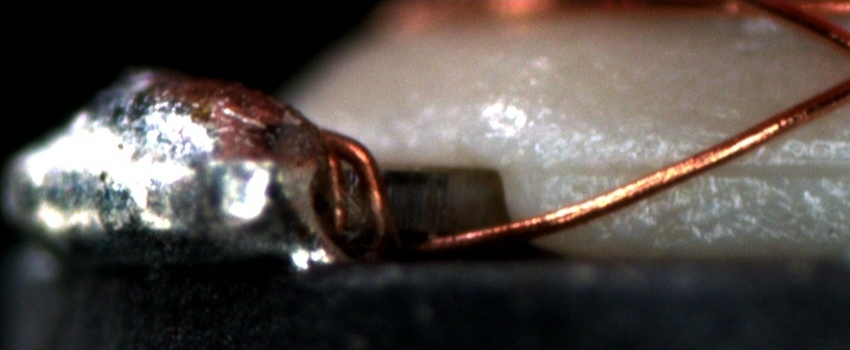DL: (530, 140, 850, 204)
TE: (311, 120, 396, 246)
